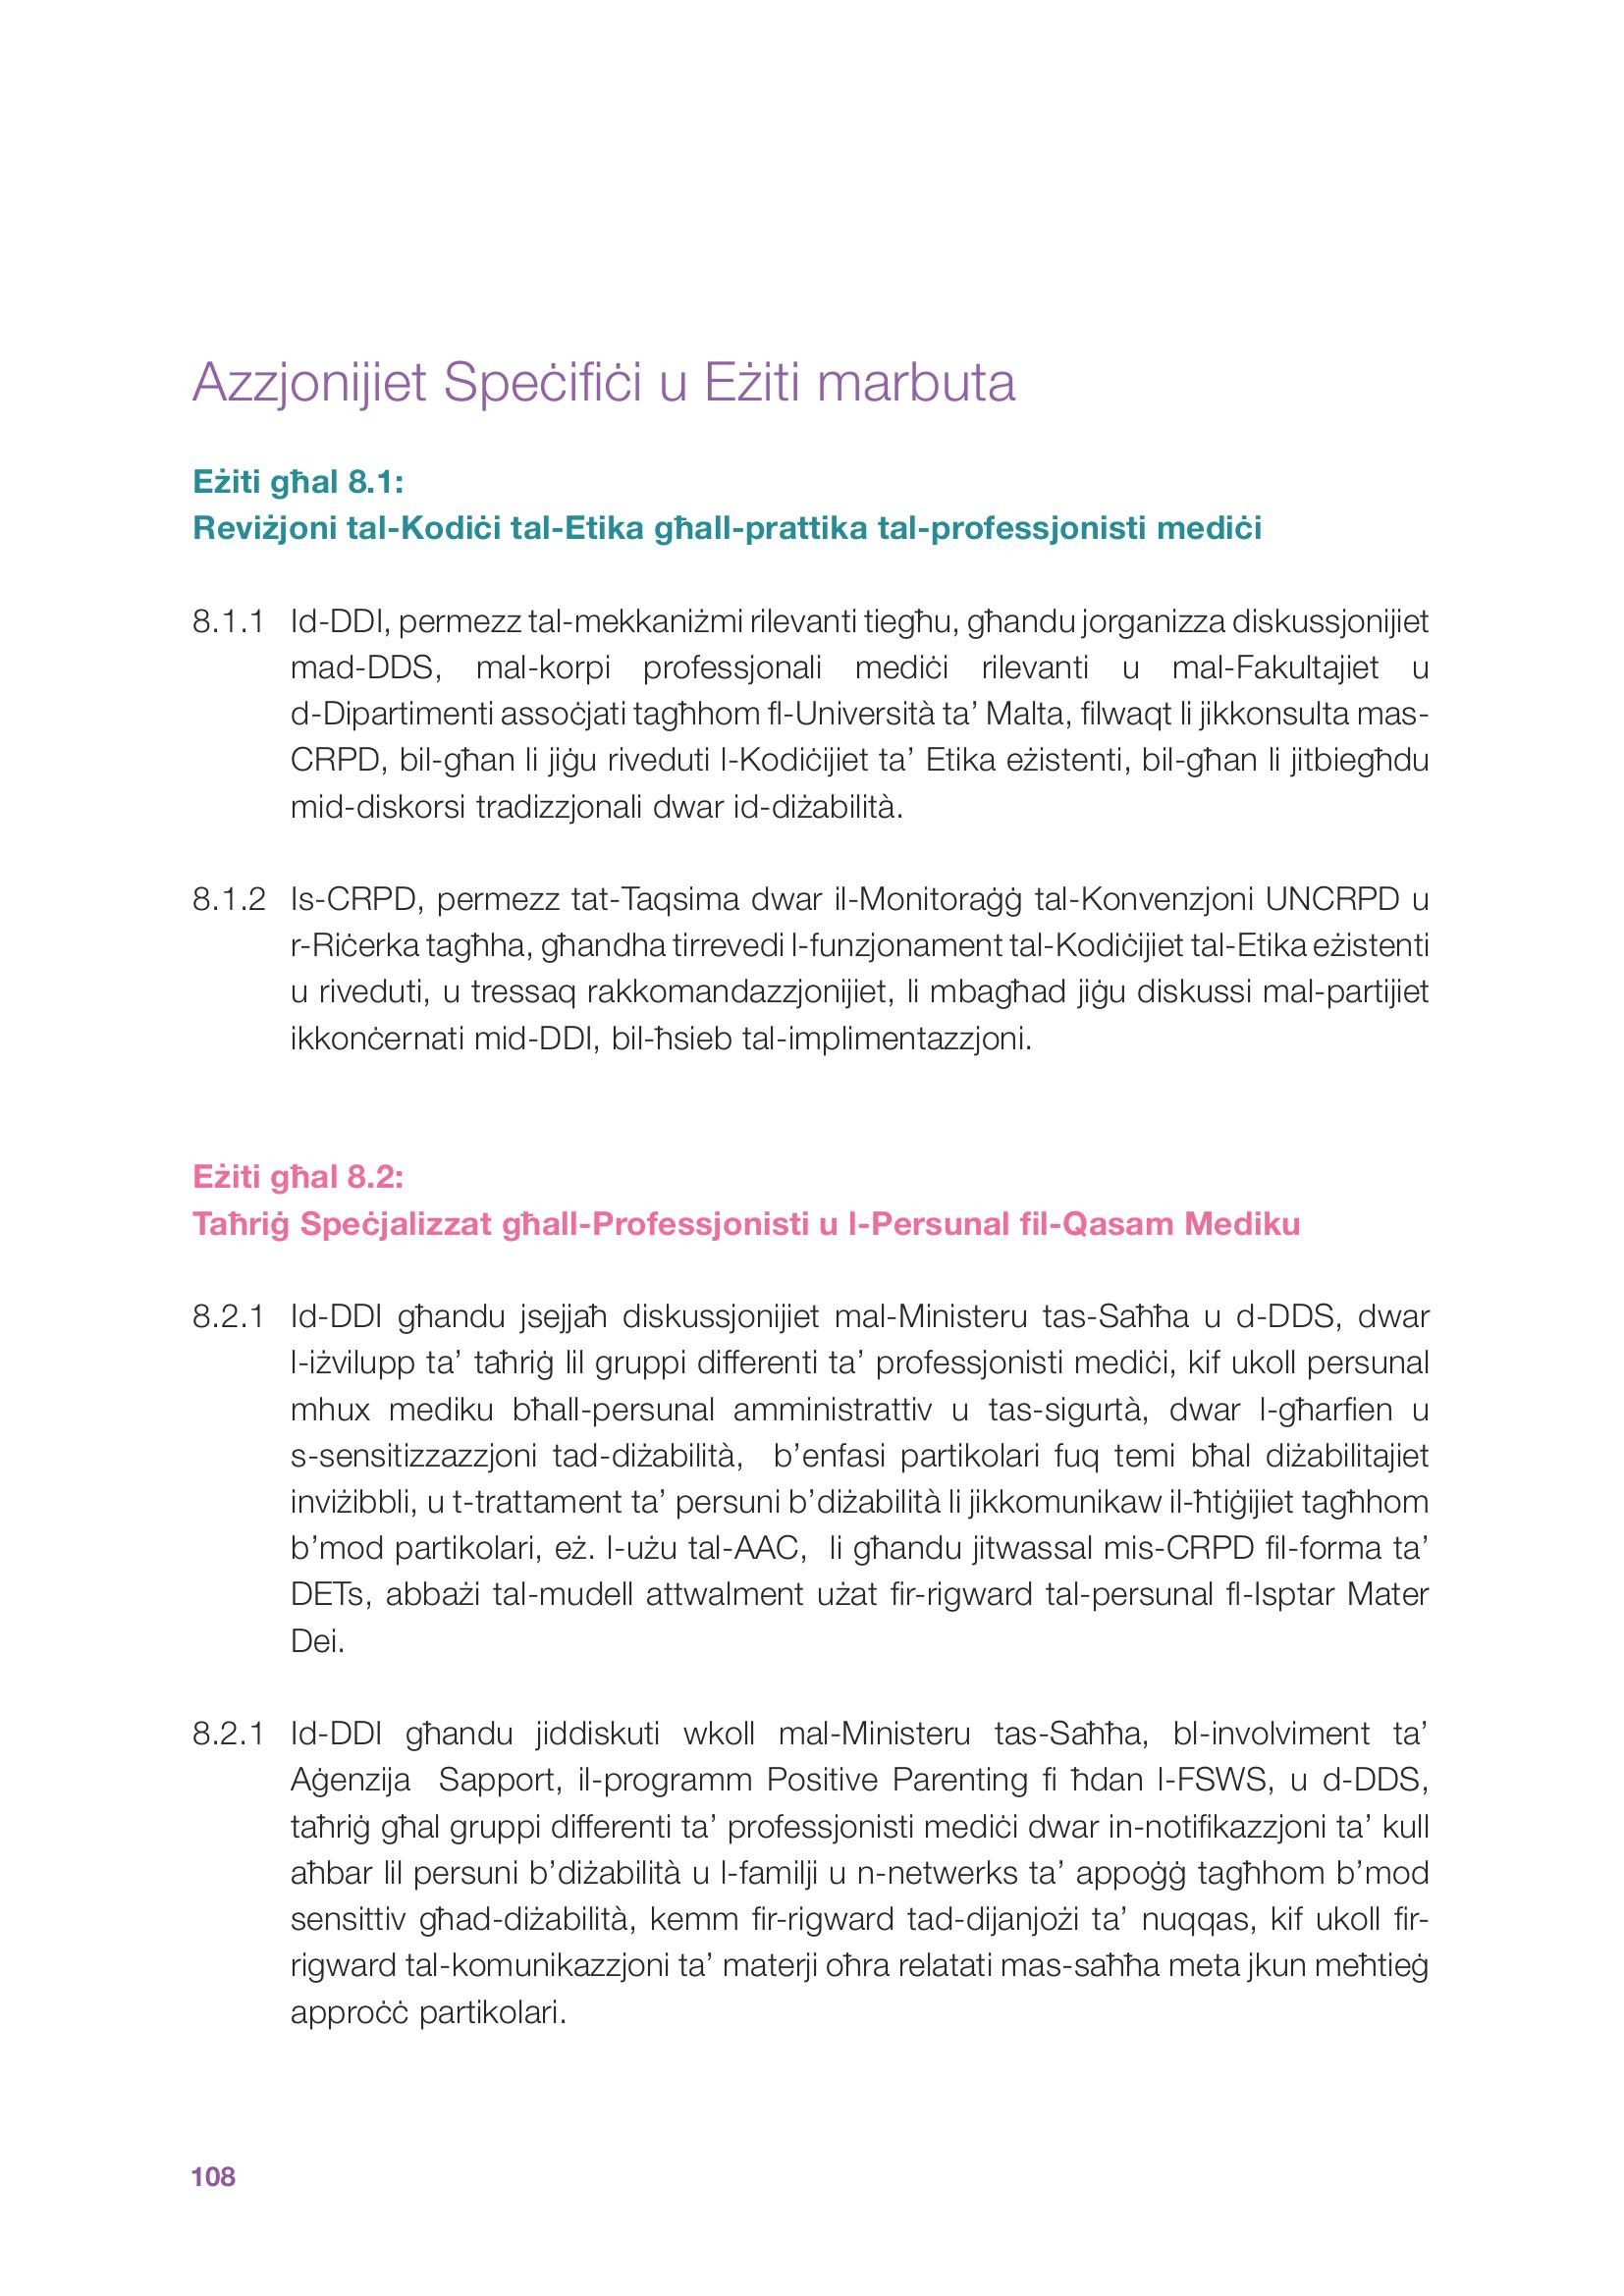text: (160, 329, 1475, 2068)
